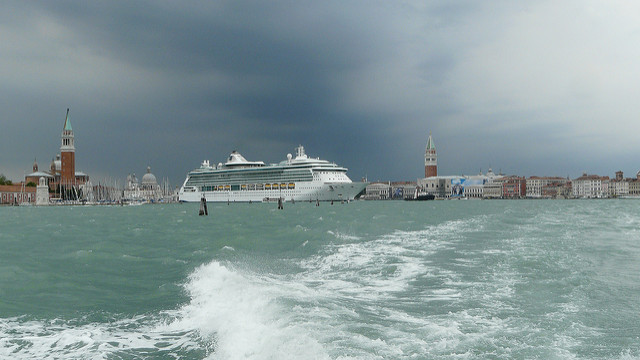cruise_ship: (176, 151, 368, 200)
tug_boat: (402, 184, 436, 204)
